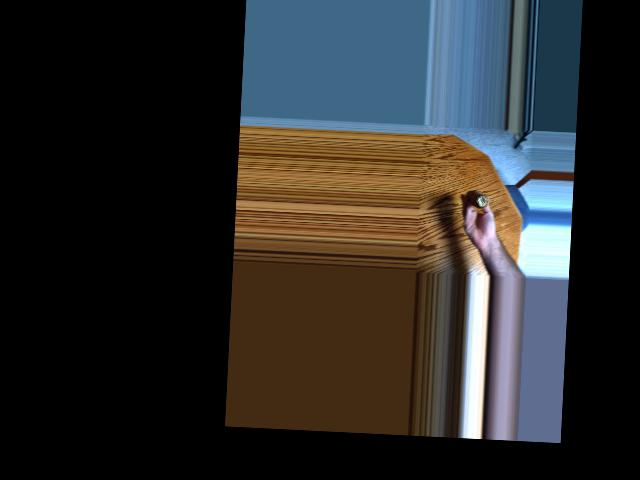sweet_potato: (464, 187, 492, 214)
